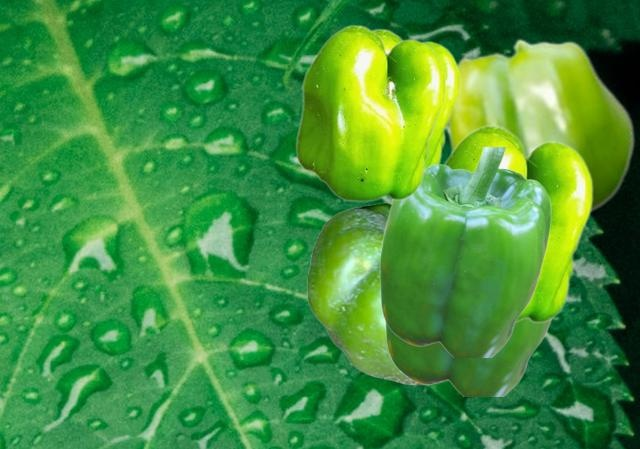bell_pepper: (379, 147, 550, 356), (446, 38, 634, 215), (442, 124, 592, 324), (295, 24, 445, 201), (307, 200, 447, 384), (384, 320, 551, 395), (373, 28, 459, 164)
